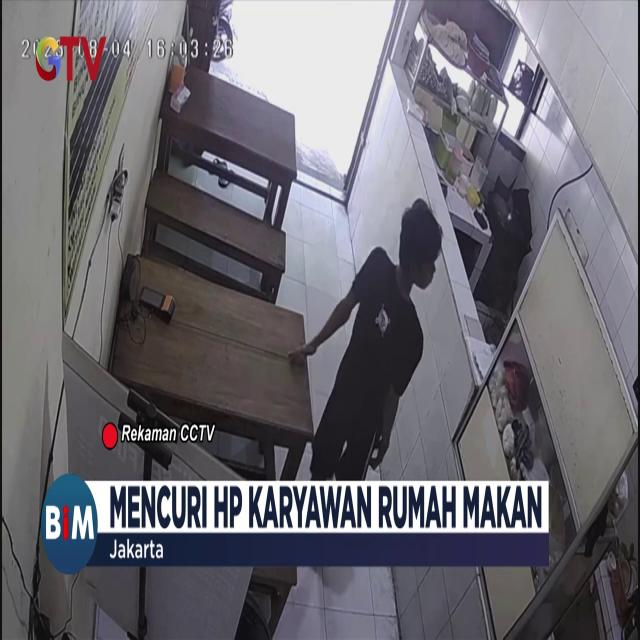normal: (304, 194, 444, 484)
